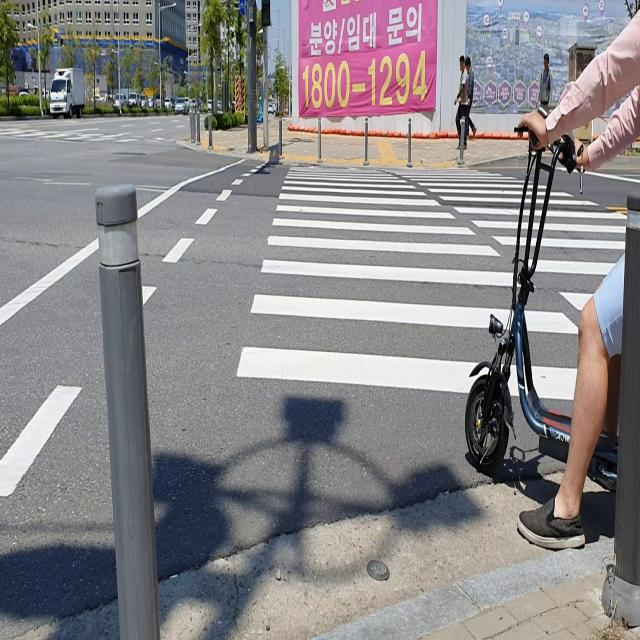횡단보도: (233, 157, 631, 405), (0, 124, 182, 145)
